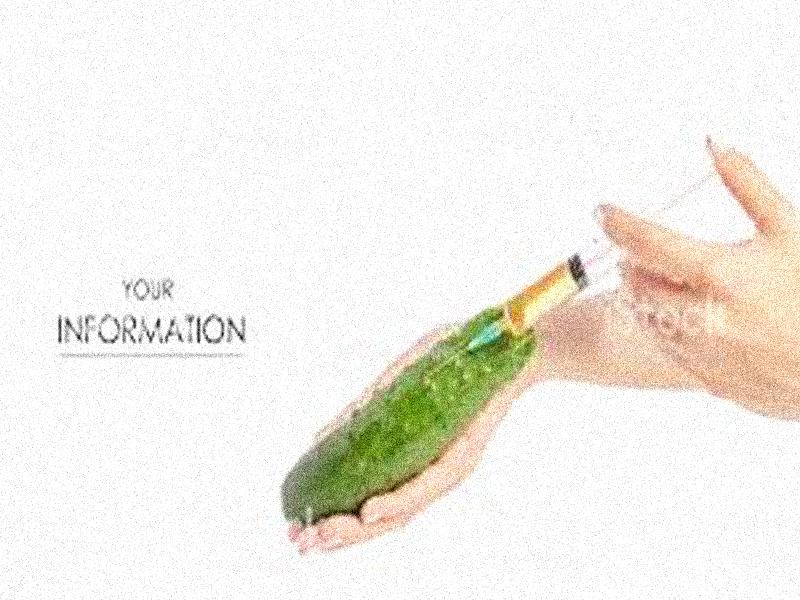Cucumber: (283, 300, 533, 521)
